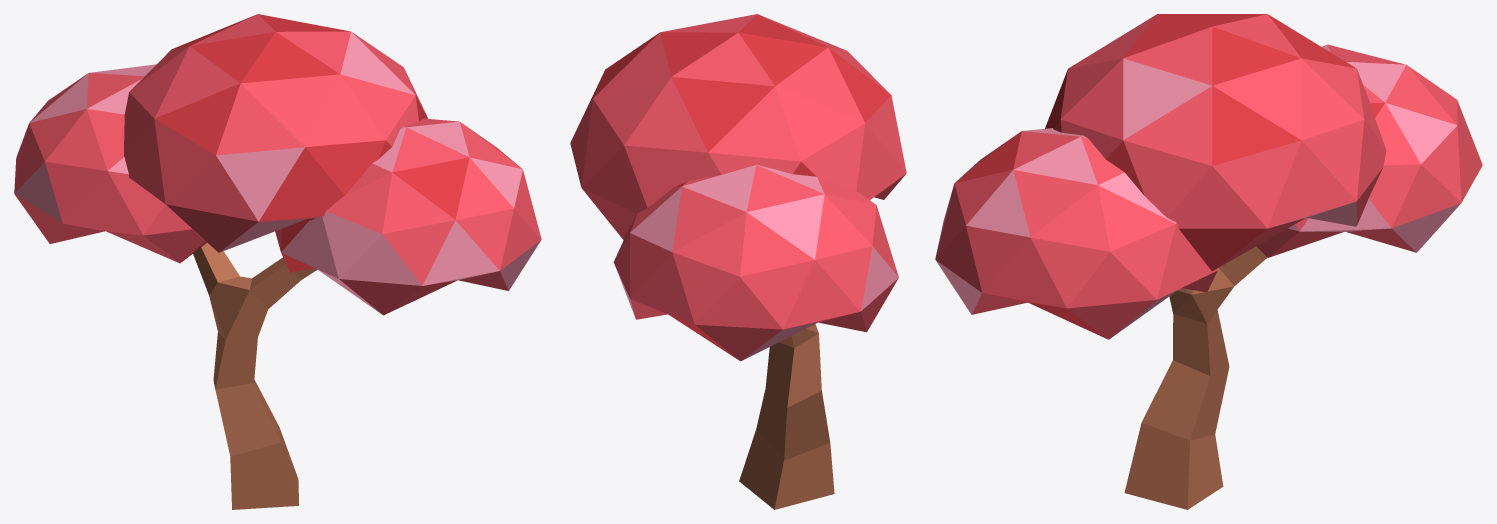
Rendered from Tree_09_1.fbx.
3 renders of one model, left to right at view 1: azimuth 30°, elevation 25°; view 2: azimuth 150°, elevation 25°; view 3: azimuth 270°, elevation 25°, orthographic. The views are drawn at different scales.
Parts seen in each view (by area): view 1: Tree_09 top, Tree_09 trunk; view 2: Tree_09 top, Tree_09 trunk; view 3: Tree_09 top, Tree_09 trunk.
Boxes of the visible parts, x1,y1,x2,y2 form: Tree_09 top: [14, 14, 541, 456]; Tree_09 trunk: [230, 428, 298, 509]; Tree_09 top: [570, 14, 906, 460]; Tree_09 trunk: [739, 429, 834, 509]; Tree_09 top: [935, 14, 1482, 440]; Tree_09 trunk: [1124, 422, 1223, 509].
Size of the model in its own units: 517 by 581 by 600.
